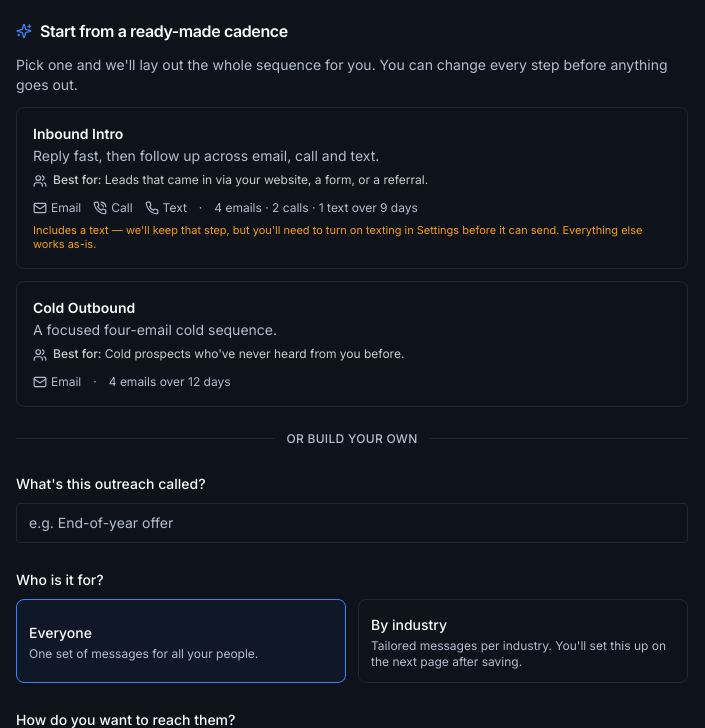
Scenario: NewCampaign — starter cadence prefills the editable plan › switching from the custom path to a starter replaces the custom plan
Later steps or results of the test are not shown.
Type "Scratch build" into the field labelled "What's this outreach called?" at [352, 522], box [16,502,688,542]
(page scrolled)
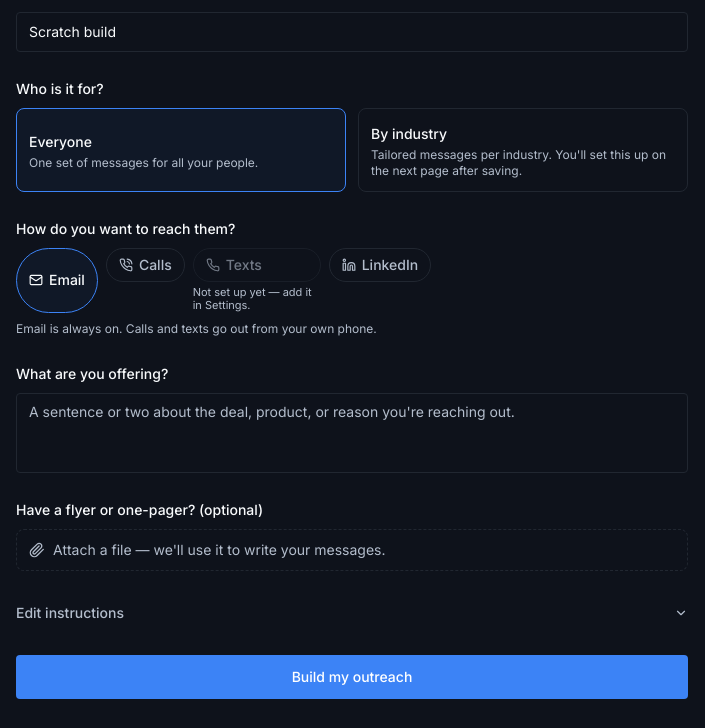
Click the button "Build my outreach" at [352, 677], box [16,655,688,699]
(page scrolled)
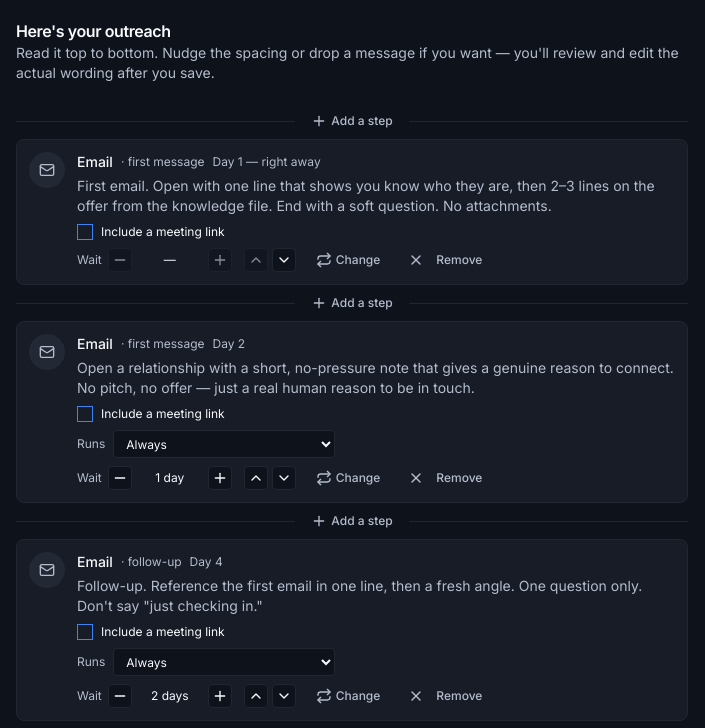
Check: the heading "Here's your outreach" is shown, box [16,21,171,41]
